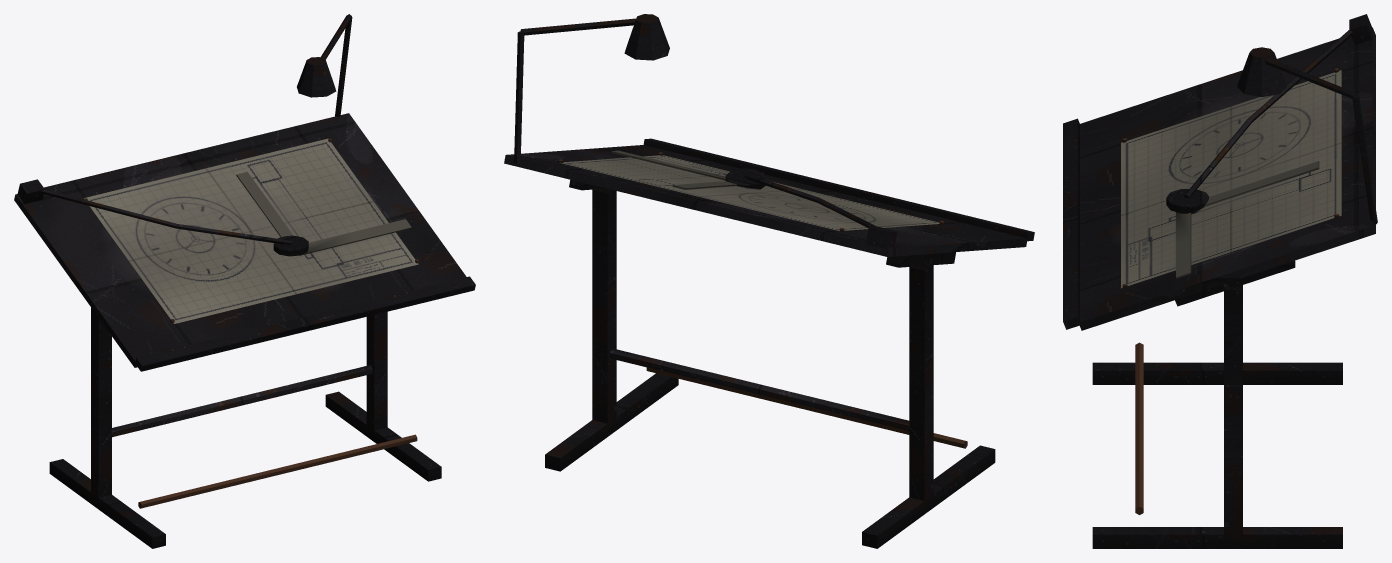
Rendered from drafting_table.glb.
3 renders of one model, left to right at view 1: azimuth 30°, elevation 25°; view 2: azimuth 150°, elevation 25°; view 3: azimuth 270°, elevation 25°, orthographic. The views are drawn at different scales.
Visible parts, largest first — view 1: body, panels, decals; view 2: body, panels, decals; view 3: body, panels, decals.
Part boxes in pixels (bbox=[...]): body: bbox=[14, 14, 475, 548]; panels: bbox=[84, 138, 418, 323]; decals: bbox=[115, 173, 309, 271]; body: bbox=[504, 14, 1034, 548]; panels: bbox=[559, 155, 939, 230]; decals: bbox=[677, 178, 898, 226]; body: bbox=[1063, 14, 1377, 548]; panels: bbox=[1121, 70, 1341, 288]; decals: bbox=[1184, 94, 1337, 215].
Size of what is drawn, in the model's own units: 1.5 by 1.64 by 1.01.
7 materials, 5 textured.
